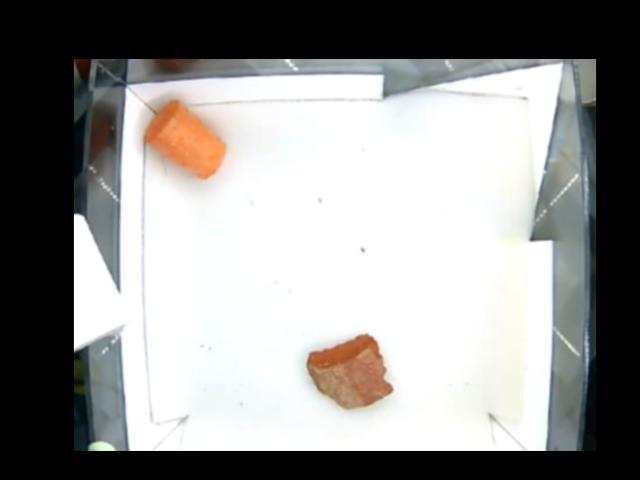Brisk: (307, 334, 396, 411)
Carrot: (144, 98, 228, 181)
